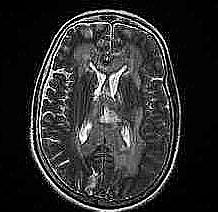Normal_Brain: (1, 1, 214, 212)
